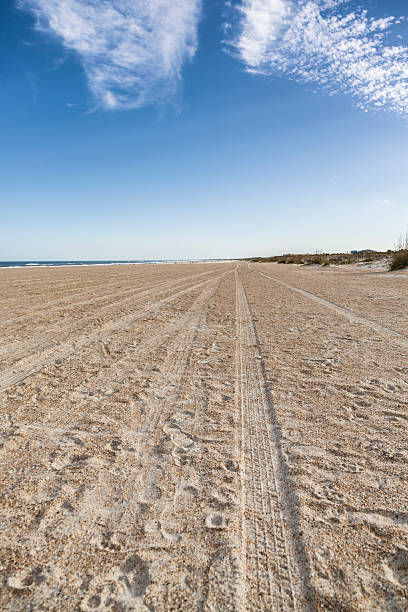vehicle_track: (235, 272, 311, 611), (0, 279, 211, 391), (248, 264, 407, 347)
